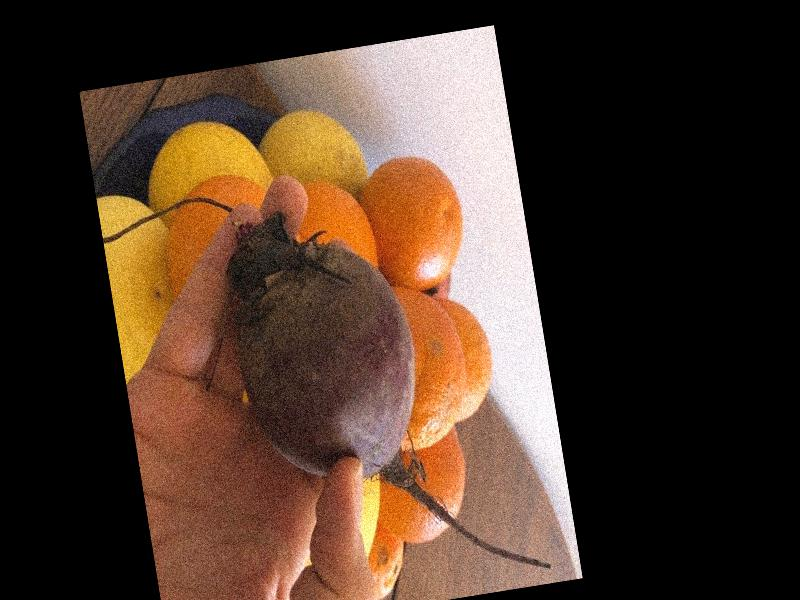Beet: (218, 184, 551, 600)
